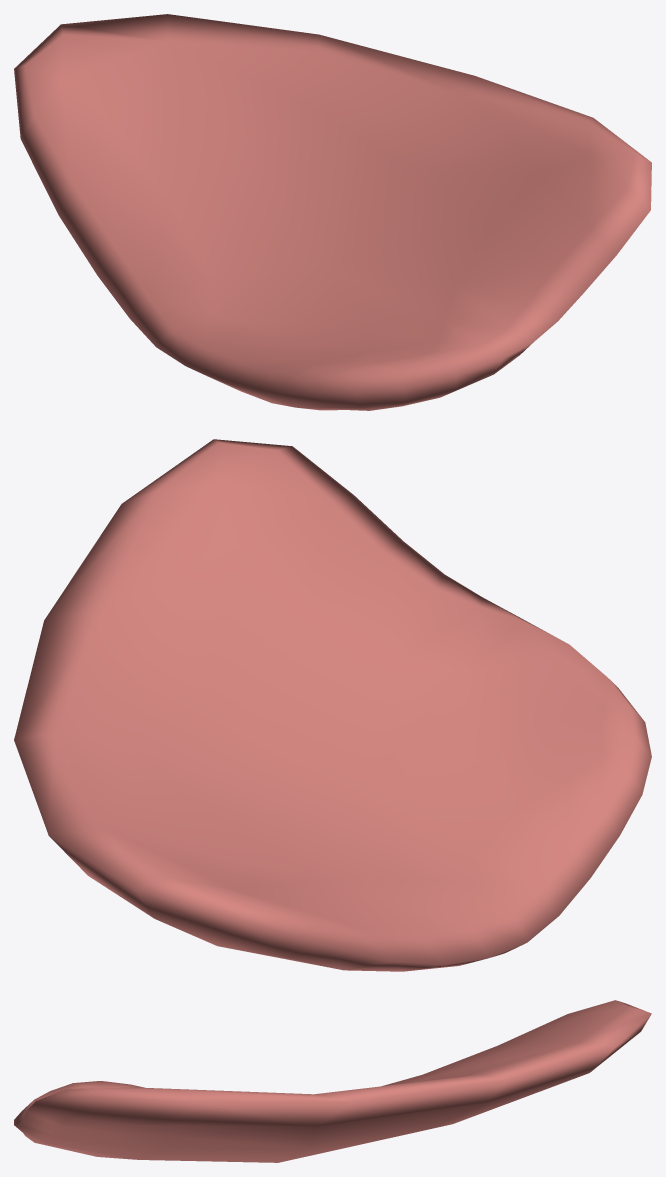
3 renders of one model, top to bottom at view 1: azimuth 30°, elevation 25°; view 2: azimuth 150°, elevation 25°; view 3: azimuth 270°, elevation 25°, orthographic. The views are drawn at different scales.
Parts seen in each view (by area): view 1: ZA_0881007063d6835d; view 2: ZA_0881007063d6835d; view 3: ZA_0881007063d6835d.
Part boxes in pixels (x1,y1,x2,y2): ZA_0881007063d6835d: (14,14,651,410); ZA_0881007063d6835d: (14,439,651,971); ZA_0881007063d6835d: (14,1000,651,1162).
Size of the model in its own units: 0.00419 by 0.00228 by 0.00718.
